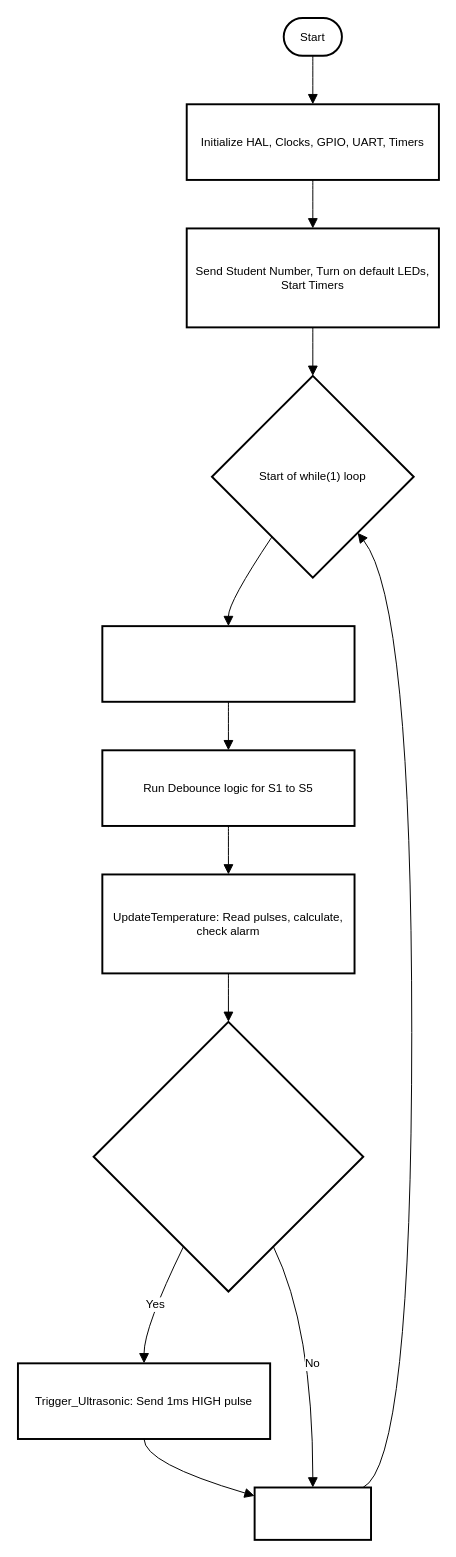
Image size: 456x1557. Some labels were removed from this diagram. Here are the shapes that lost their labels. From the top down, the centre of each, then its label:
point (228, 663): UpdateLEDs: Update GPIO pins and flash timing
point (228, 1156): Has 100ms passed since last trigger?
point (312, 1513): LoopEnd
